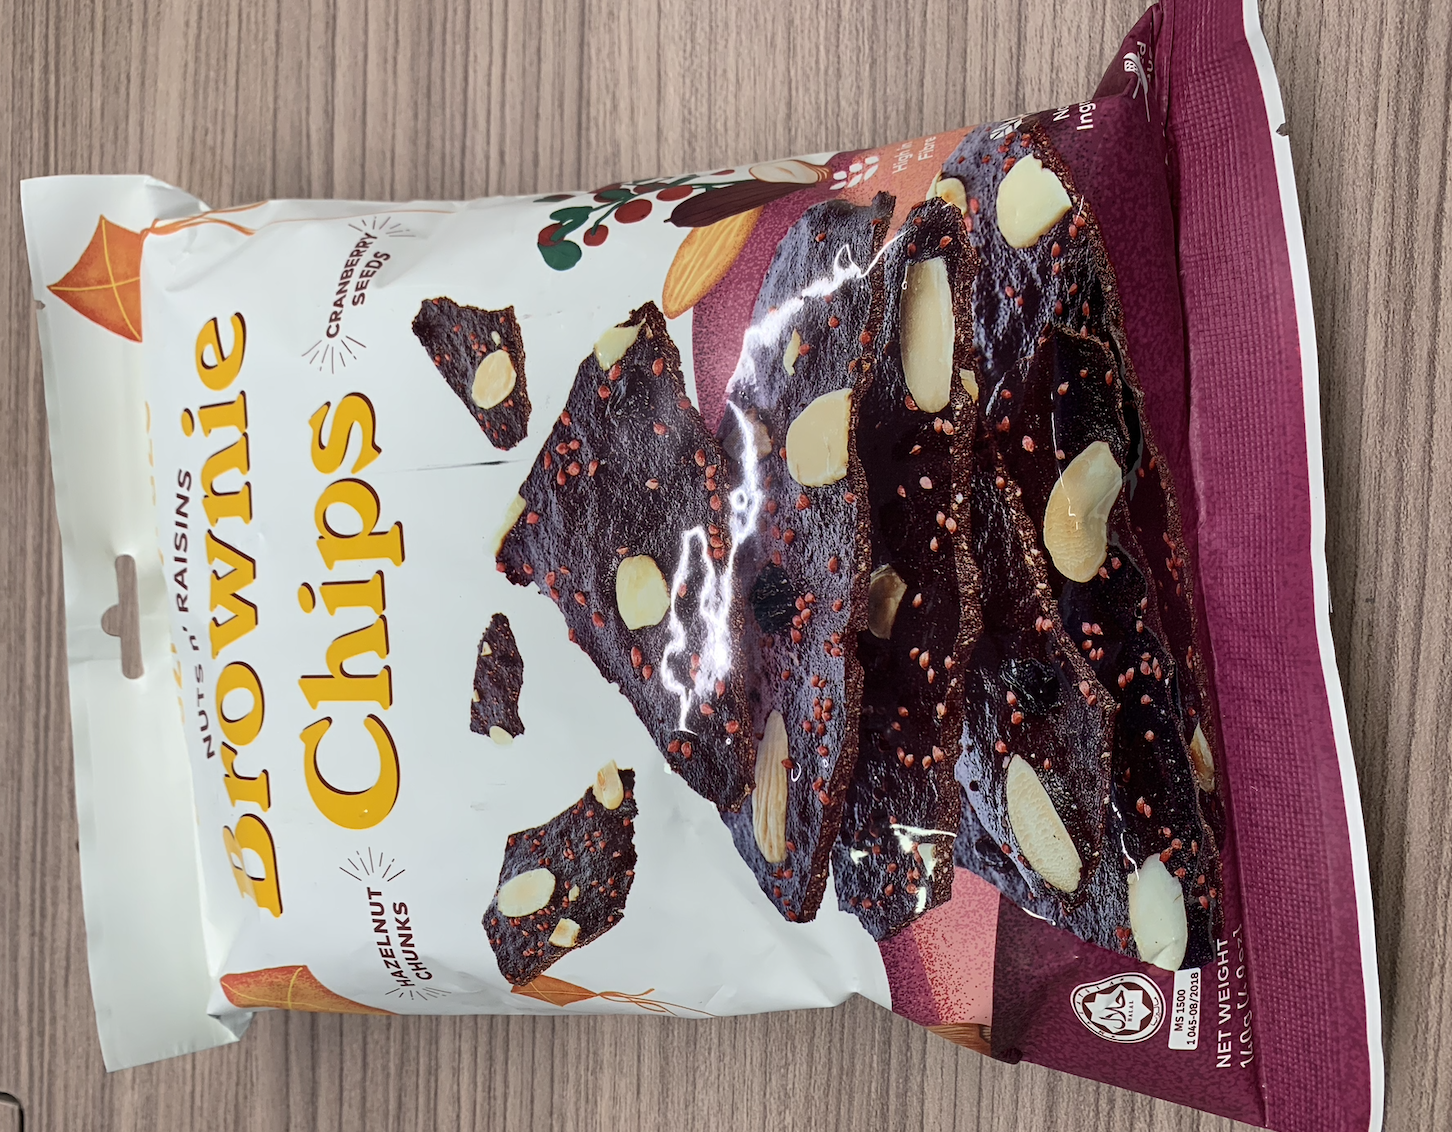crackers_150g: (90, 221, 1296, 1057)
